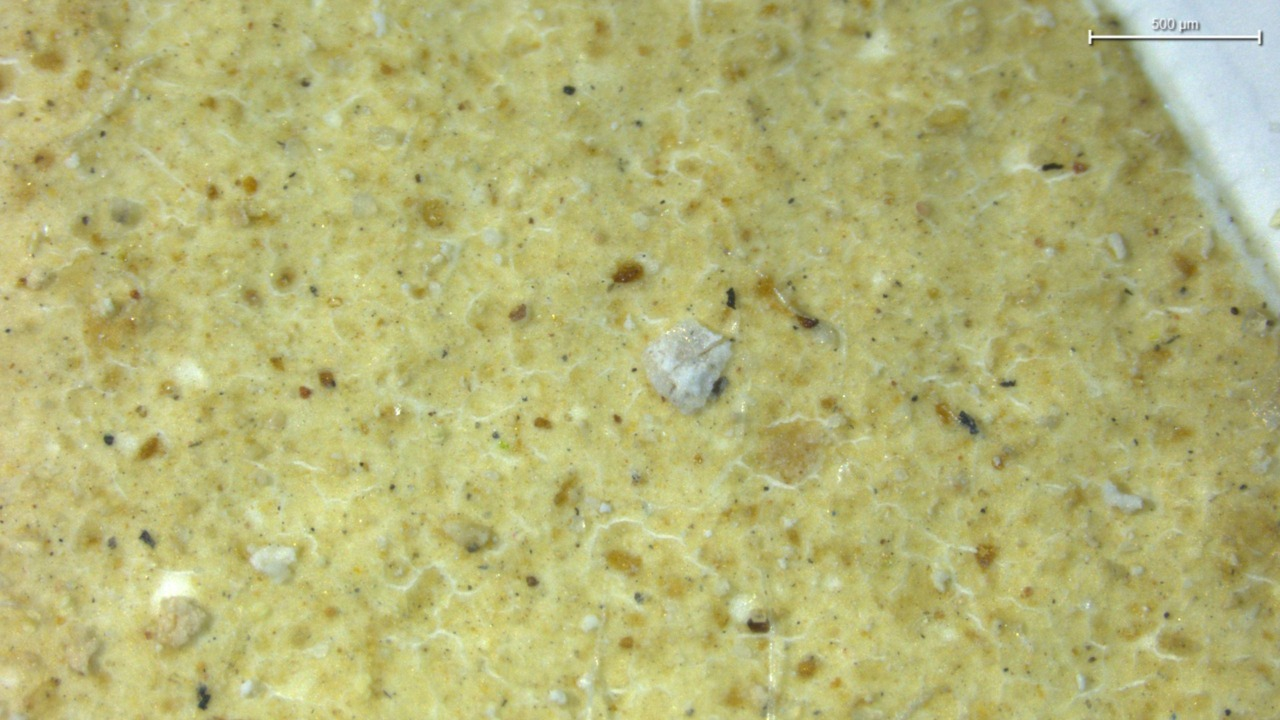microplastic_fragment: (642, 319, 731, 414)
